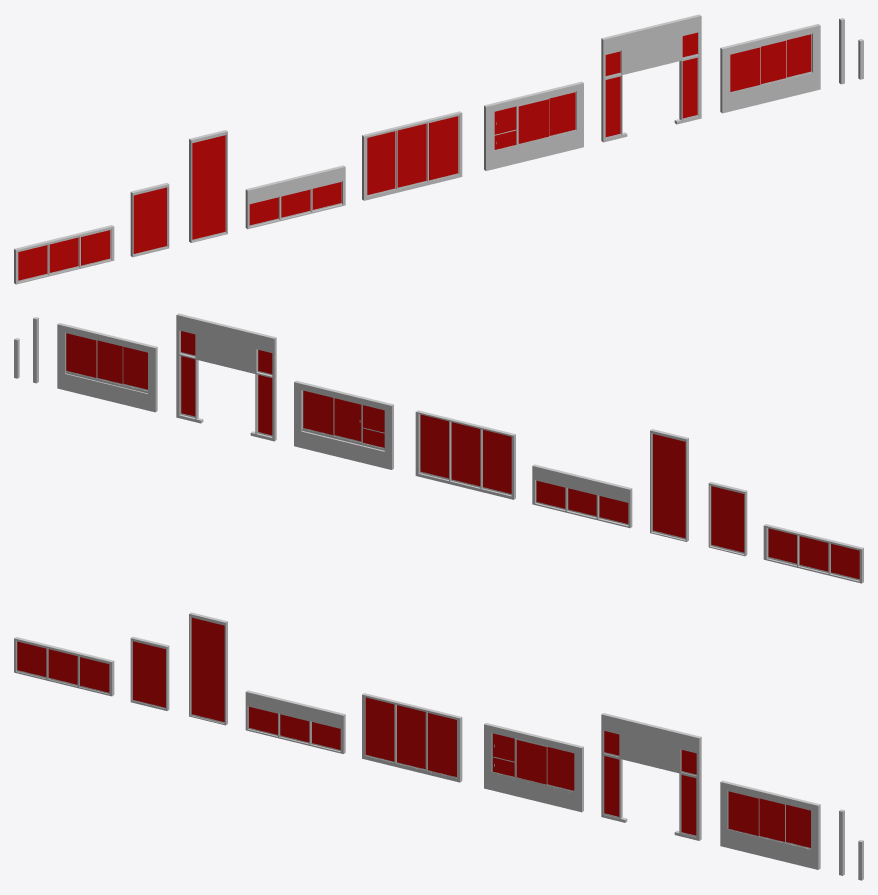
File: Wall Multiset 2_Lo.FBX
3 views of the same model, one above another, from view 1: azimuth 30°, elevation 25°; view 2: azimuth 150°, elevation 25°; view 3: azimuth 330°, elevation 25° (orthographic).
Visible parts, largest first — view 1: wall with windows set 7, wall with windows set 6, wall with windows set 2, wall with windows set 1, wall with windows set 3, Glass wall 400cm, wall with windows set 008, Glass wall 250 cm; view 2: wall with windows set 7, wall with windows set 6, wall with windows set 2, wall with windows set 1, wall with windows set 3, Glass wall 400cm, wall with windows set 008, Glass wall 250 cm; view 3: wall with windows set 7, wall with windows set 2, wall with windows set 6, wall with windows set 1, wall with windows set 3, Glass wall 400cm, wall with windows set 008, Glass wall 250 cm.
Boxes of the visible parts, x1,y1,x2,y2 form: wall with windows set 7: (601, 14, 701, 142); wall with windows set 6: (720, 24, 820, 113); wall with windows set 2: (362, 111, 462, 200); wall with windows set 1: (484, 81, 583, 170); wall with windows set 3: (245, 165, 345, 229); Glass wall 400cm: (189, 130, 227, 242); wall with windows set 008: (14, 225, 114, 284); Glass wall 250 cm: (130, 183, 169, 257); wall with windows set 7: (176, 313, 276, 441); wall with windows set 6: (57, 323, 157, 412); wall with windows set 2: (415, 410, 515, 499); wall with windows set 1: (294, 380, 393, 469); wall with windows set 3: (532, 464, 632, 528); Glass wall 400cm: (650, 429, 688, 541); wall with windows set 008: (763, 524, 863, 583); Glass wall 250 cm: (708, 482, 747, 556); wall with windows set 7: (601, 713, 701, 840); wall with windows set 2: (362, 693, 462, 782); wall with windows set 6: (720, 780, 820, 869); wall with windows set 1: (484, 723, 583, 812); wall with windows set 3: (245, 690, 345, 753); Glass wall 400cm: (189, 612, 227, 725); wall with windows set 008: (14, 637, 114, 696); Glass wall 250 cm: (130, 636, 169, 710).
Size of the model in its own units: 34.57 by 4 by 0.156.
